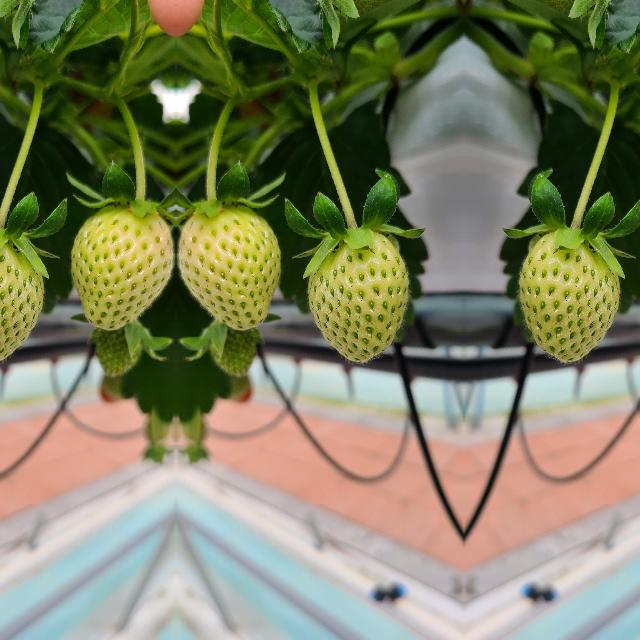Health_25: (174, 198, 284, 332), (66, 198, 176, 332), (307, 232, 407, 362), (519, 232, 619, 362), (0, 232, 43, 362)
